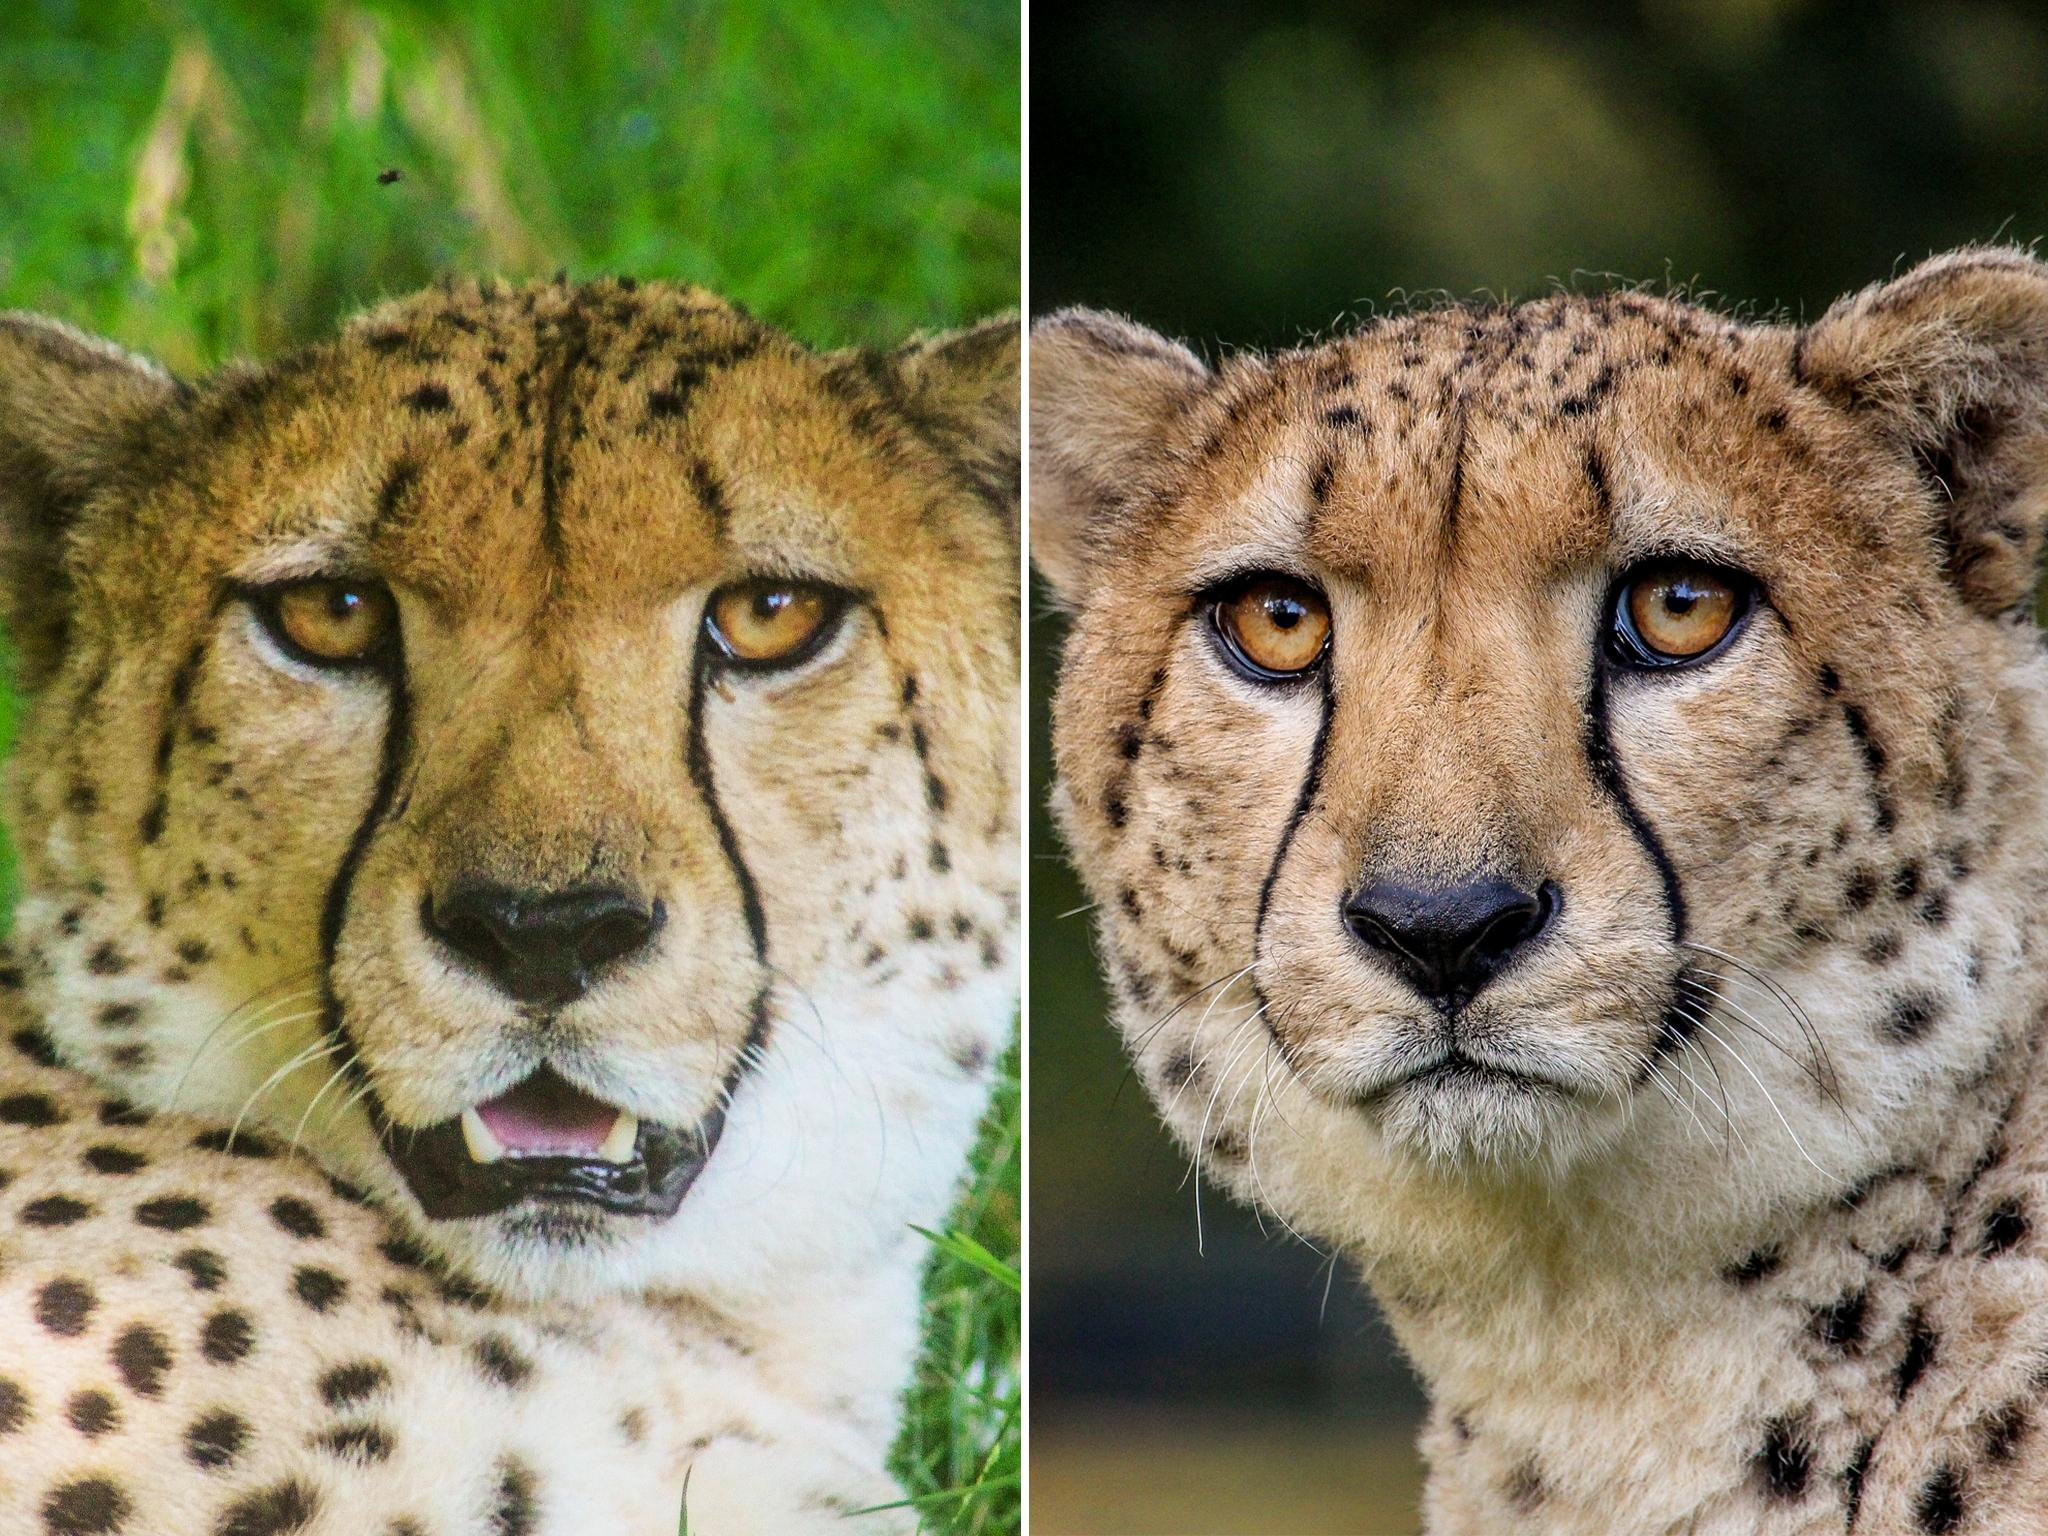cheetah: (1022, 281, 2048, 1447), (6, 287, 1016, 1363)
